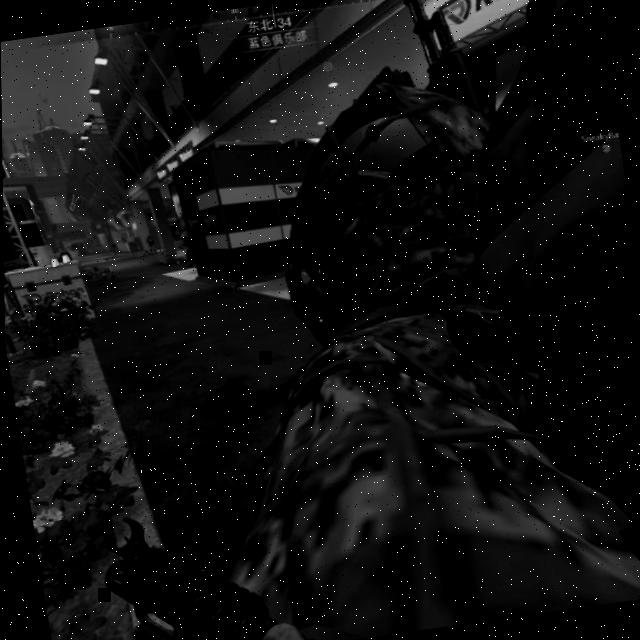MW2_body: (142, 229, 160, 259)
